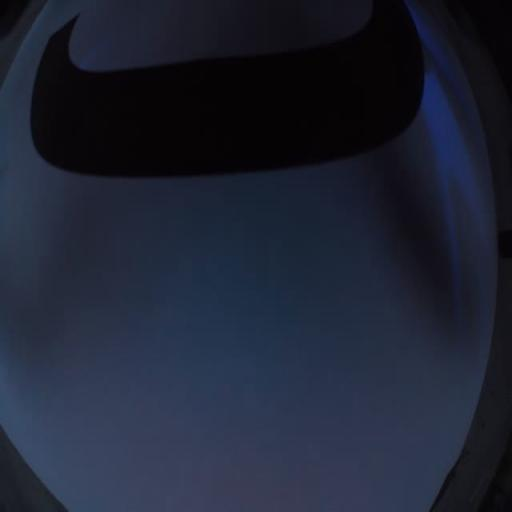J: (30, 0, 426, 179)
